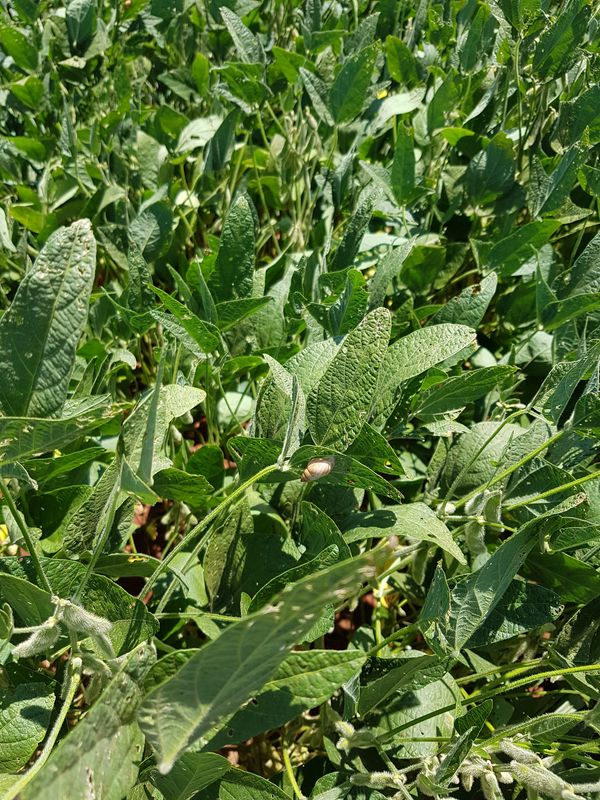Gastropoda: (294, 448, 341, 489)
